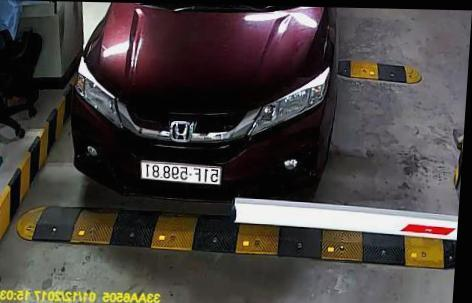License_Plate: (138, 158, 226, 185)
